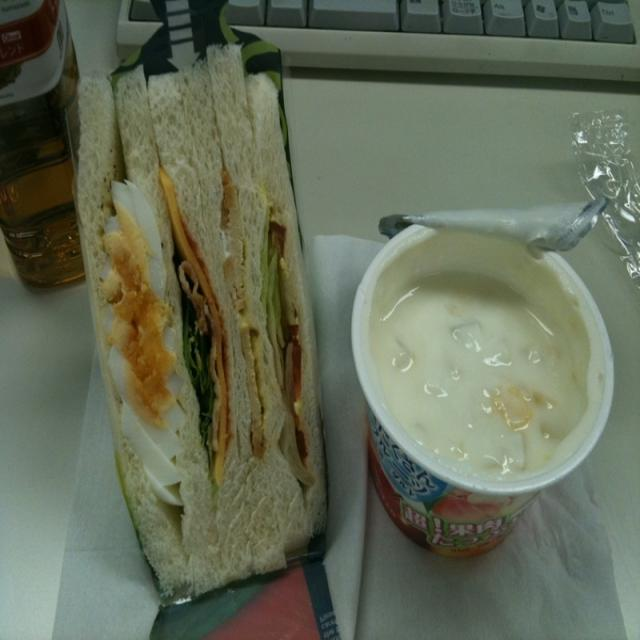三明治: (42, 48, 329, 604)
